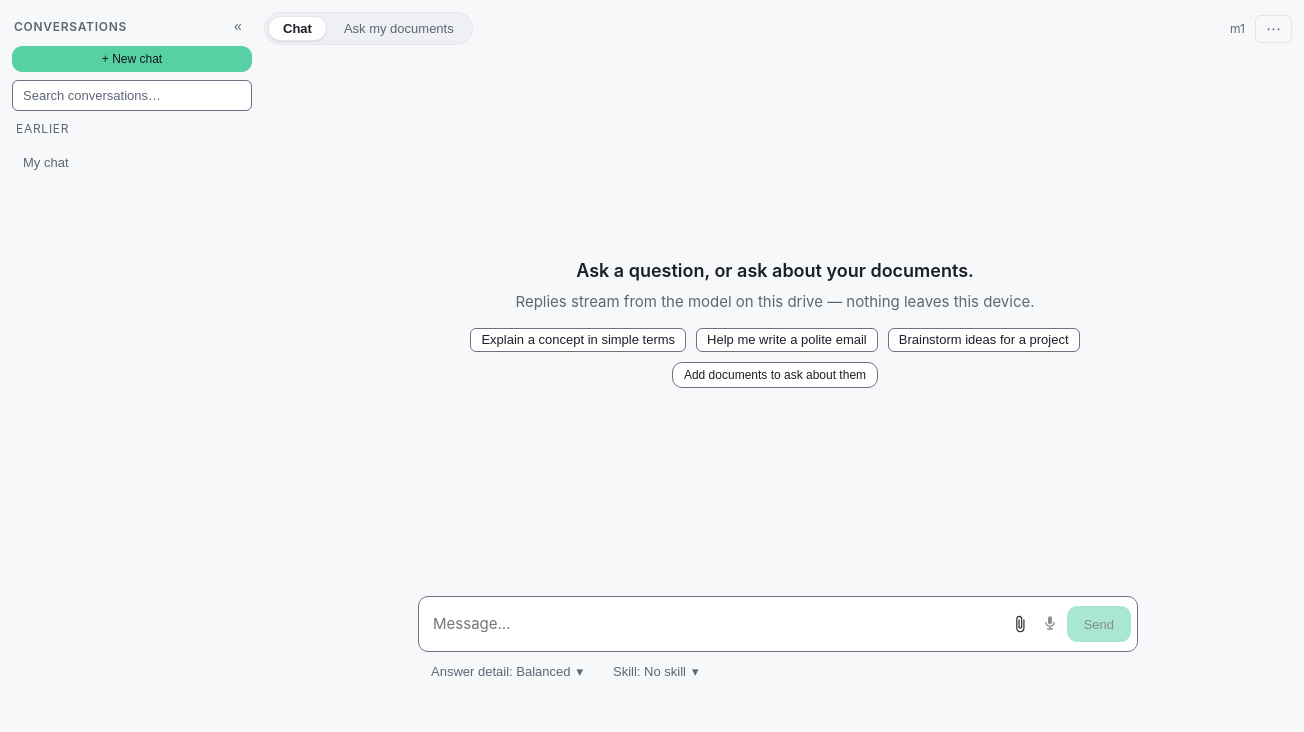
Test: ChatScreen — per-turn skill apply + keep (U3, audit §4.3) › a pick is PER-TURN: it is never written to the saved default
The width and height of the screenshot is (1304, 732).
Step 1. Click the button "My chat" → coordinates (116, 162), box [12,142,221,182]
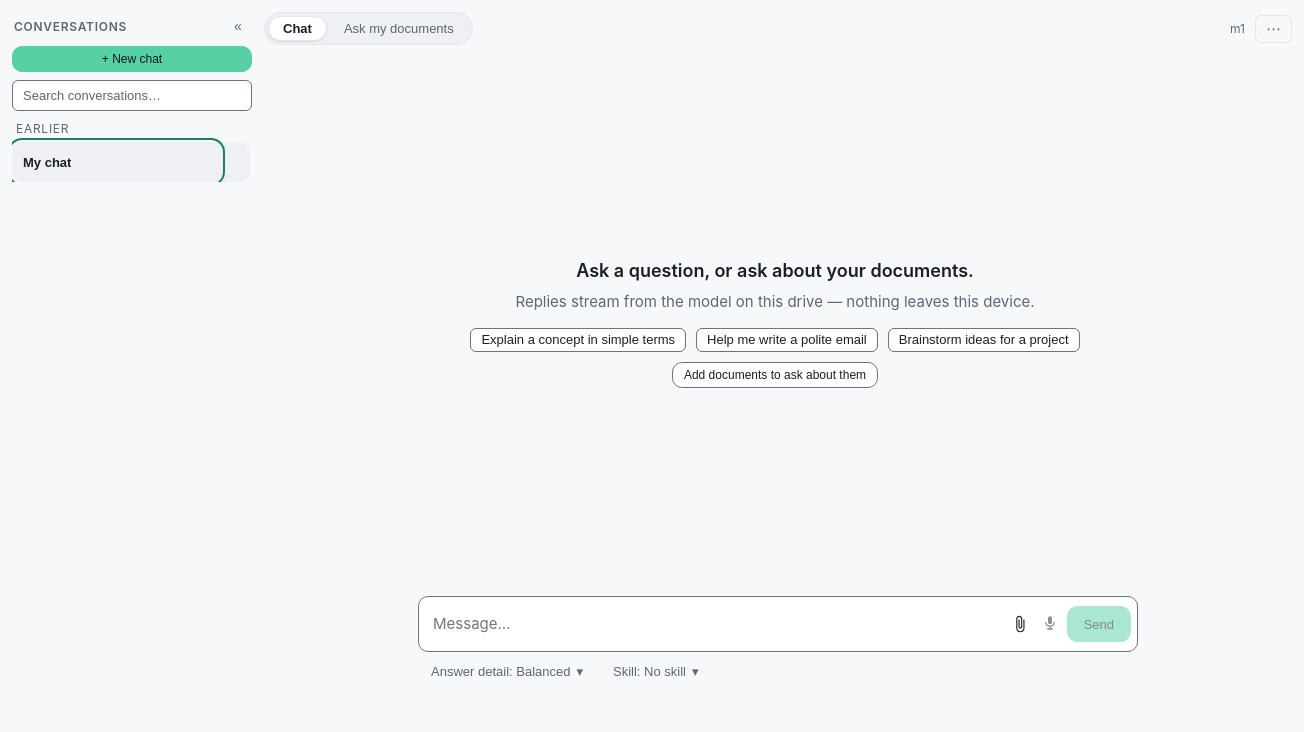
Step 2. Click the button "Skill: No skill ▾" → coordinates (656, 671), box [604,659,708,683]
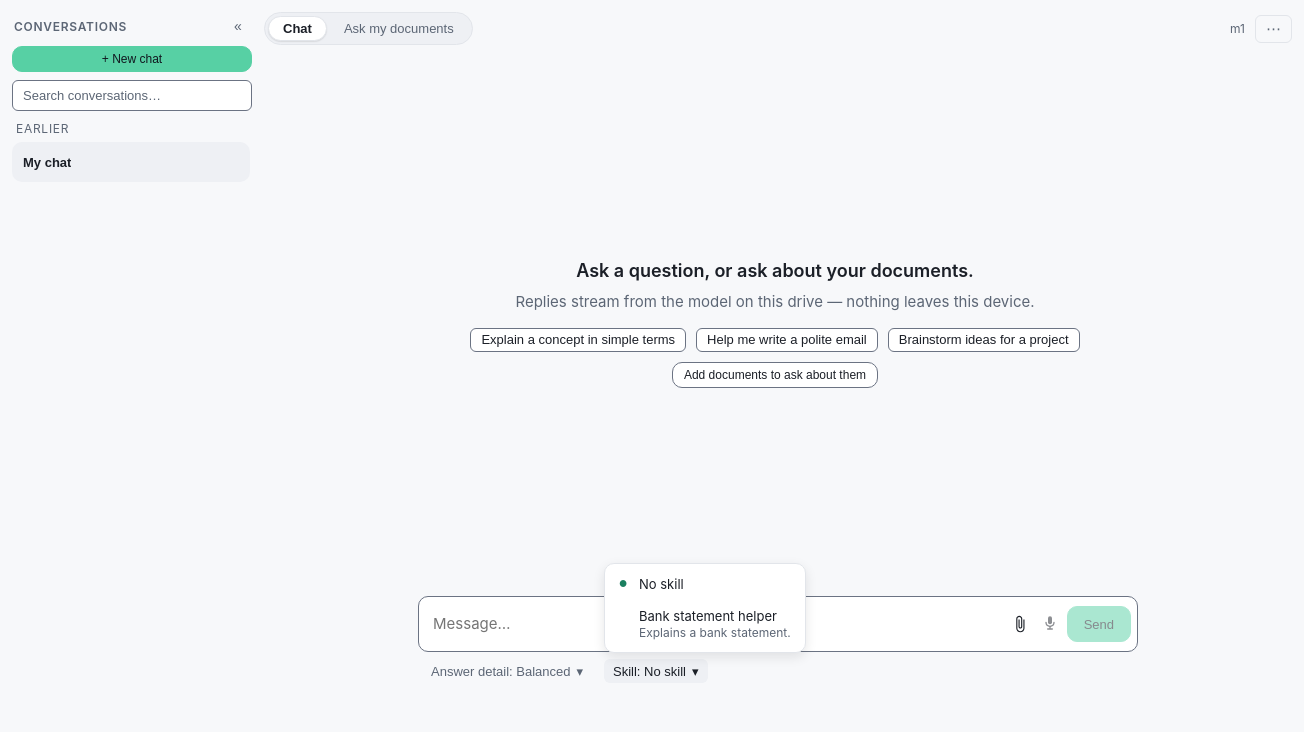
Step 3. Click the menu item "Bank statement helper Explains a bank statement." → coordinates (715, 624), box [639,608,791,640]
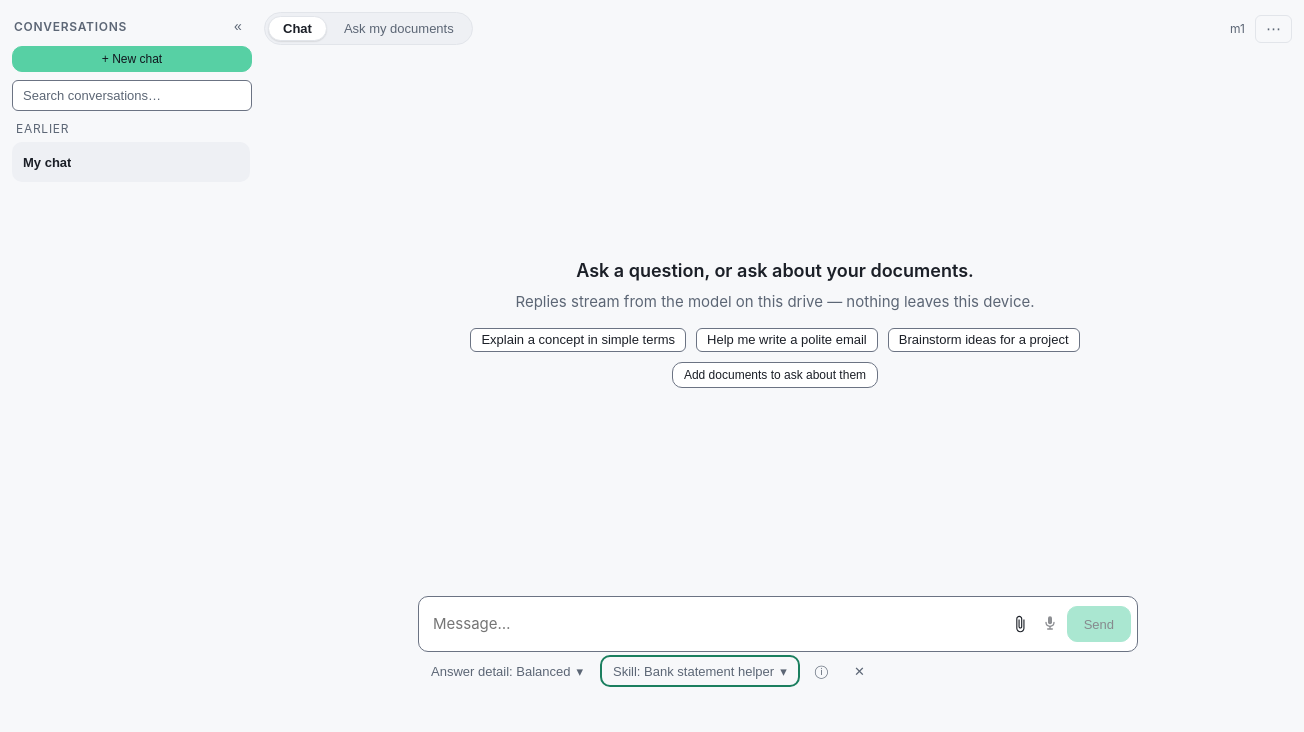
Check: the button "Skill: Bank statement helper ▾" is shown, box [604,659,796,683]
